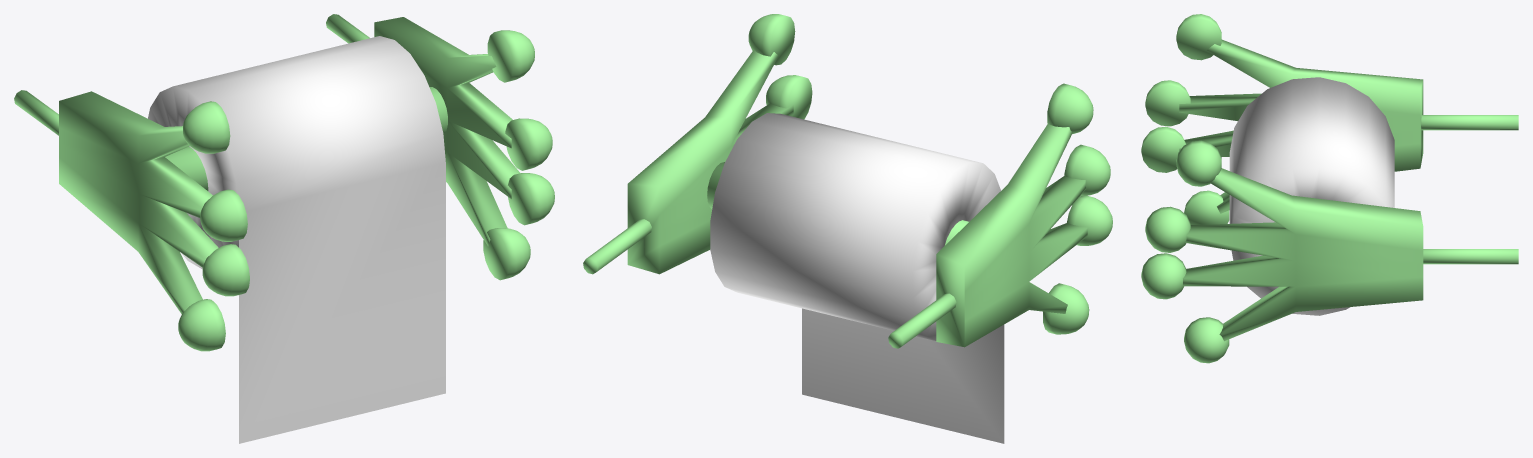
Rendered from wcPaperiTeline.fbx.
3 views of the same model, side by side, from view 1: azimuth 30°, elevation 25°; view 2: azimuth 150°, elevation 25°; view 3: azimuth 270°, elevation 25° (orthographic). The views are drawn at different scales.
Visible parts, largest first — view 1: Cylinder; view 2: Cylinder; view 3: Cylinder.
Part boxes in pixels (left/top/right/bottom): Cylinder: left=14, top=14, right=554, bottom=443; Cylinder: left=583, top=14, right=1112, bottom=443; Cylinder: left=1141, top=14, right=1518, bottom=363.
Size of the model in its own units: 0.3386 by 0.3385 by 0.3623.
